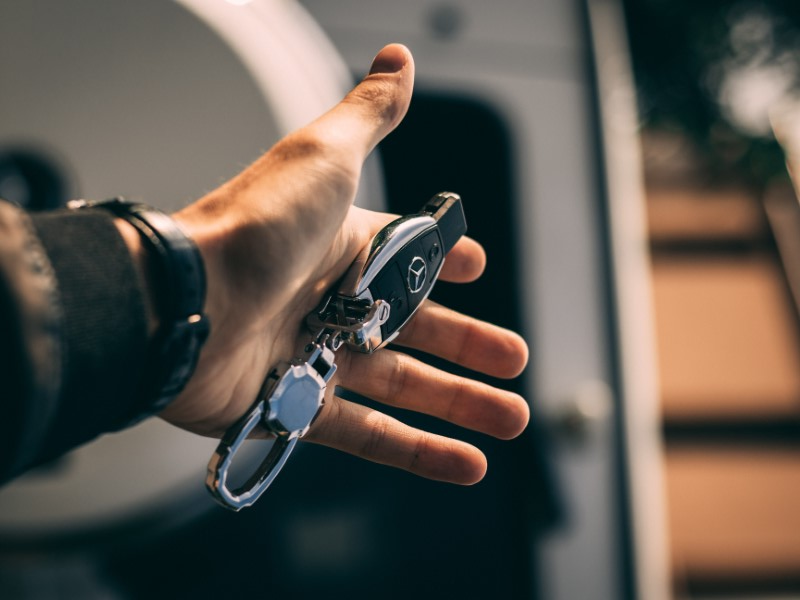carkey: (315, 182, 469, 355)
